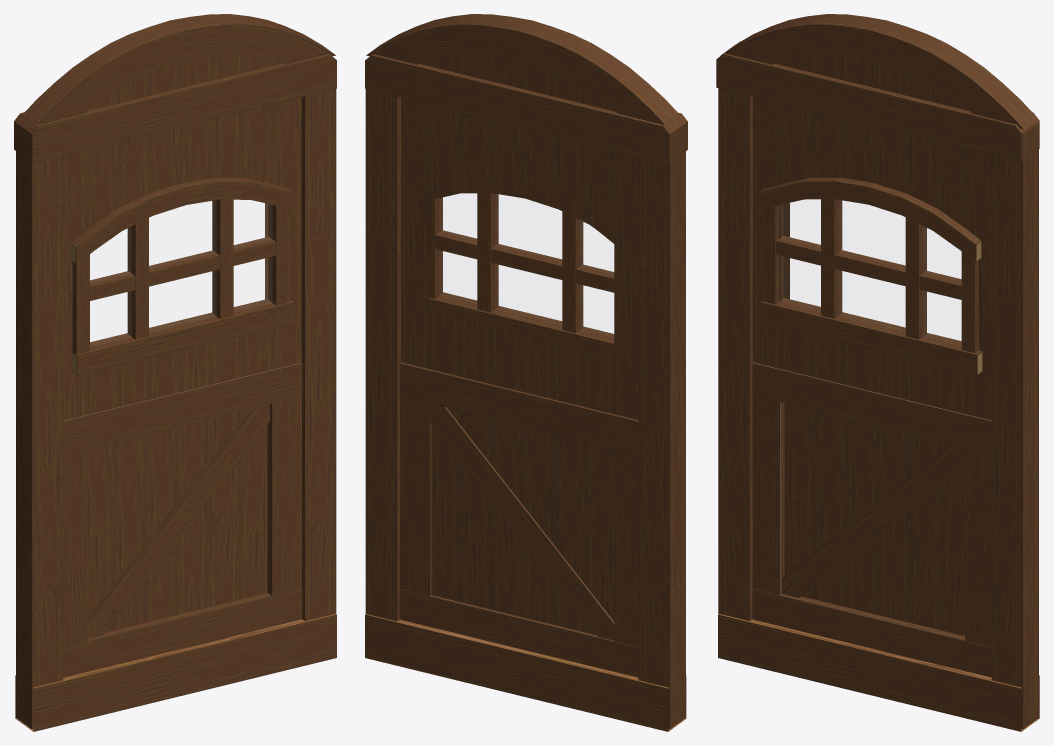
The model's file is Door_1_Round.gltf.
3 renders of one model, left to right at view 1: azimuth 30°, elevation 25°; view 2: azimuth 150°, elevation 25°; view 3: azimuth 330°, elevation 25°, orthographic.
Visible parts, largest first — view 1: Door_1_Round; view 2: Door_1_Round; view 3: Door_1_Round.
Boxes of the visible parts, box(x1,y1,x2,y2) form: Door_1_Round: box(14, 14, 336, 731); Door_1_Round: box(365, 14, 687, 731); Door_1_Round: box(716, 14, 1039, 731).
Bounding box in the file's own units: 1.12 × 2.32 × 0.1207.
Materials: 2 (1 with a texture image).
